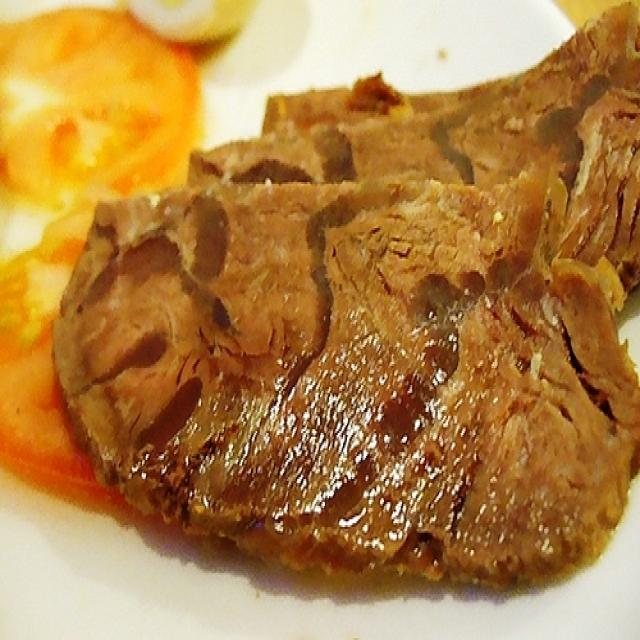烧串烤肉: (51, 17, 624, 590)
